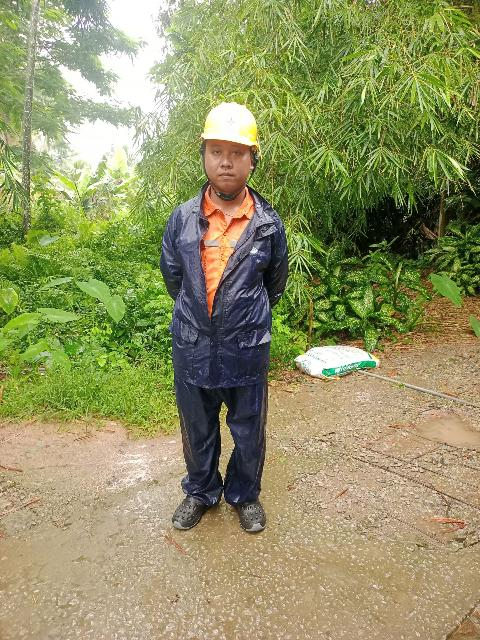helmet: (197, 100, 268, 150)
shoes: (162, 476, 215, 535), (222, 492, 280, 540)
